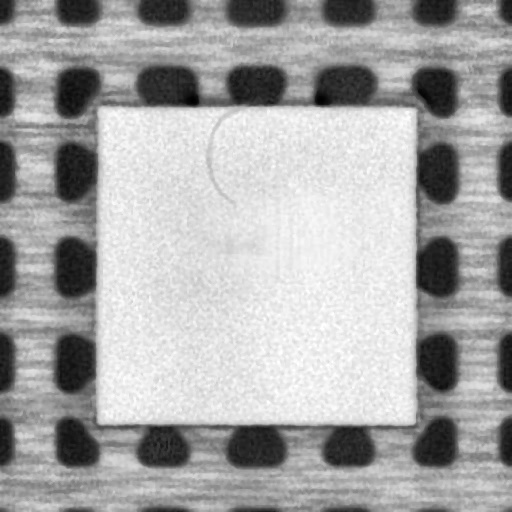DIE_CRACK: (191, 104, 238, 203)
